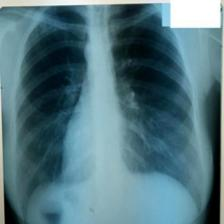tuberculosis: (8, 4, 205, 221)
